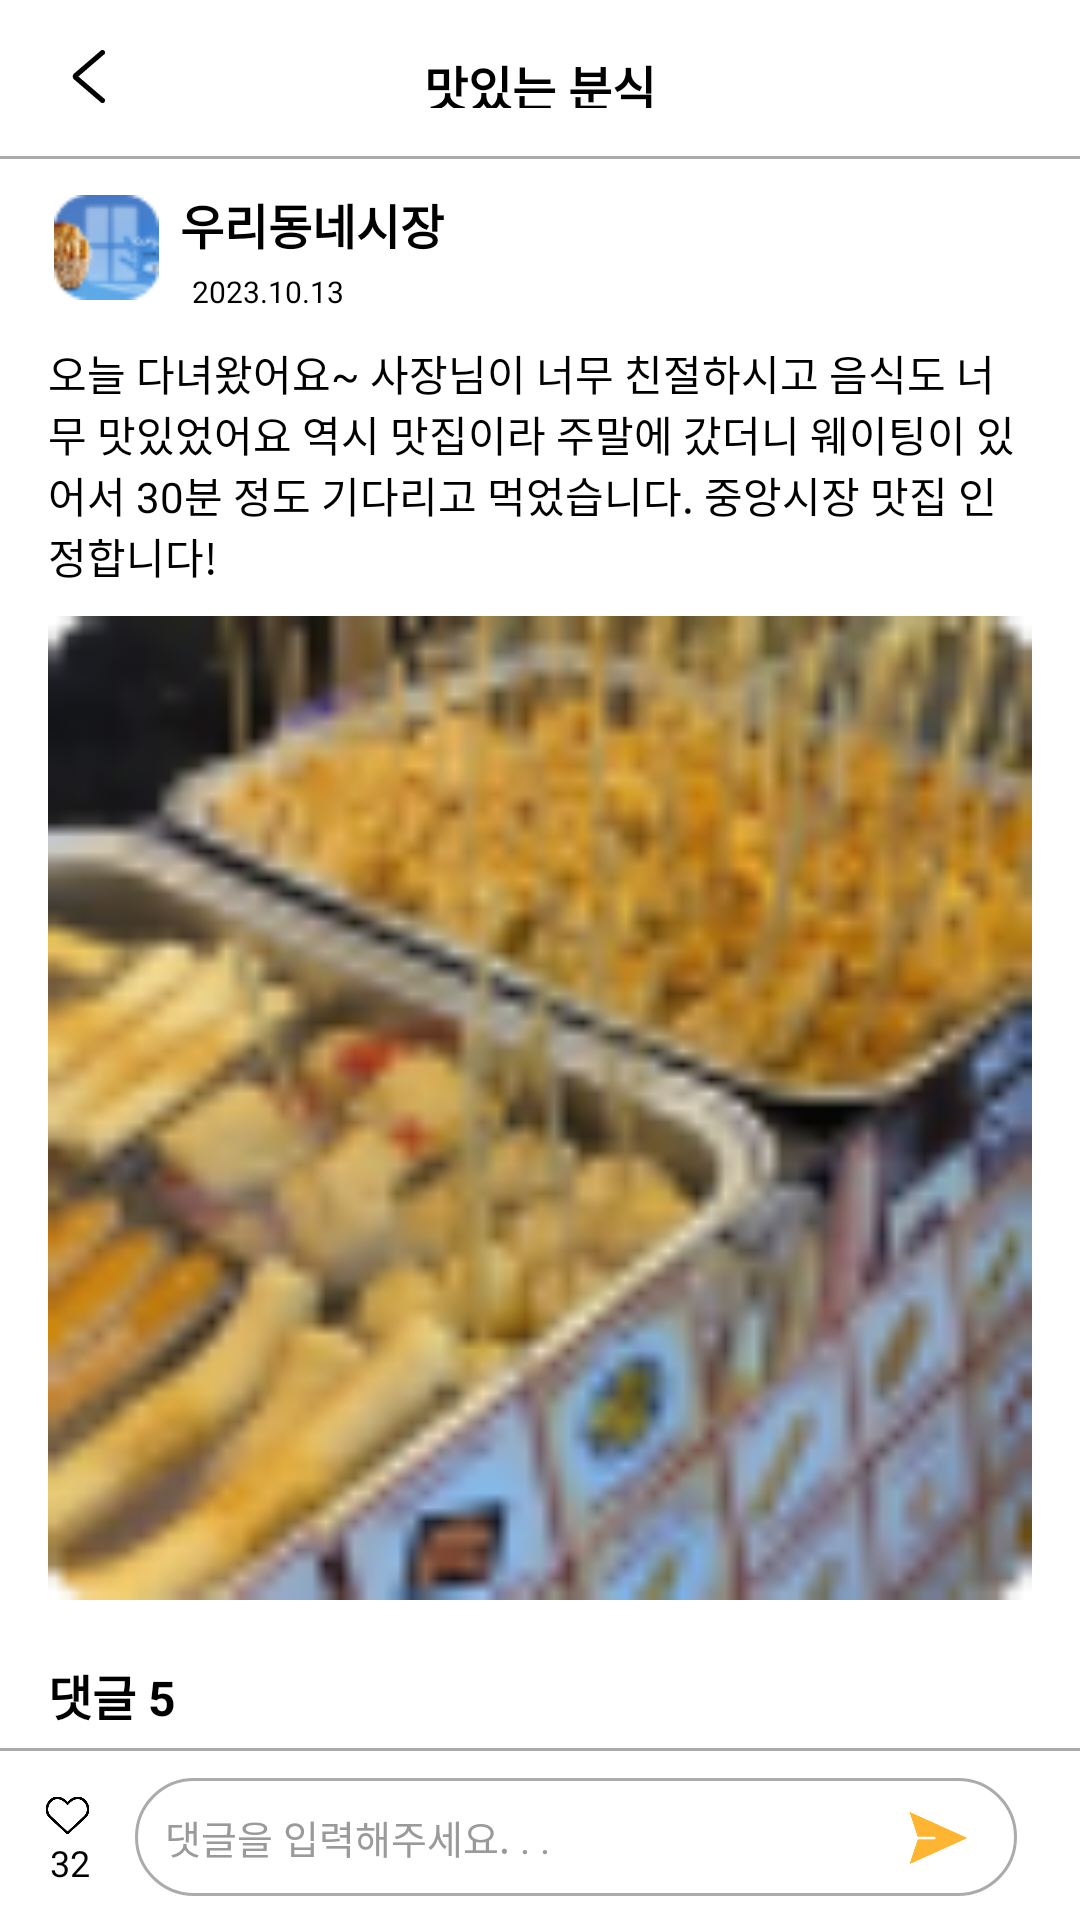

Point at icon controls on the screen. Image size 1080px x 1920px, points as (x,y).
back arrow: (88,76)
like: (67,1815)
review profile: (106,247)
